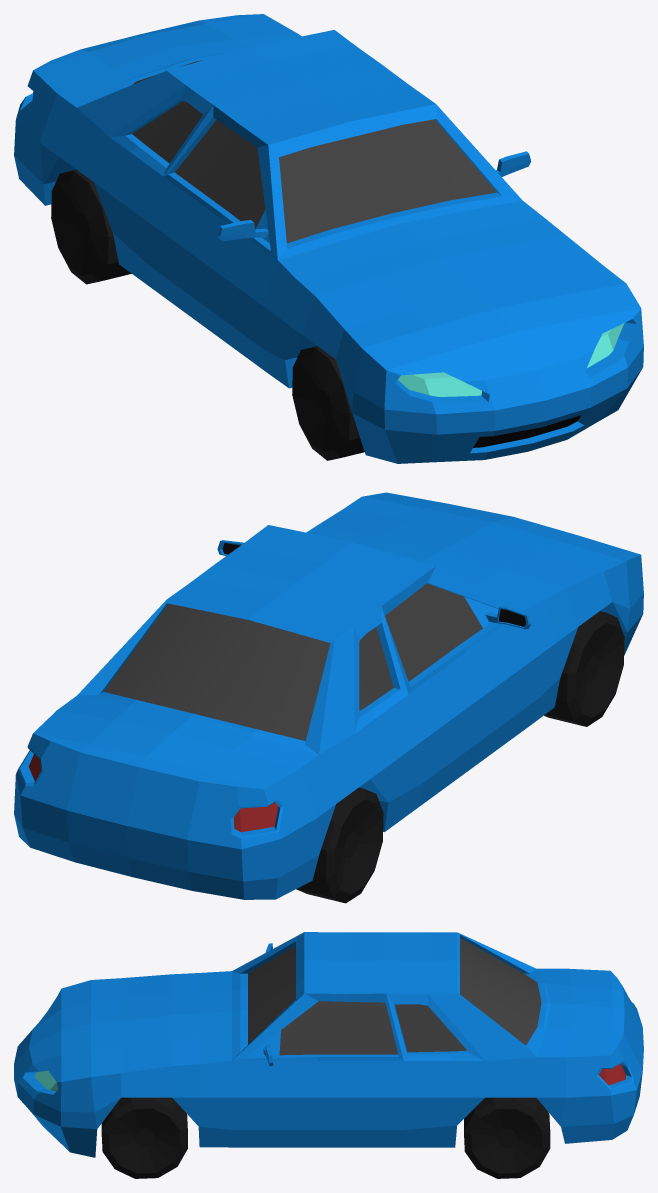
The model's file is 5blue.fbx.
3 renders of one model, top to bottom at view 1: azimuth 30°, elevation 25°; view 2: azimuth 150°, elevation 25°; view 3: azimuth 270°, elevation 25°, orthographic. The views are drawn at different scales.
Parts seen in each view (by area): view 1: Cube; view 2: Cube; view 3: Cube.
Part boxes in pixels (x1,y1,x2,y2): Cube: (14, 14, 643, 463); Cube: (14, 492, 643, 903); Cube: (14, 932, 643, 1178).
Bounding box in the file's own units: 122 × 83.59 × 284.
